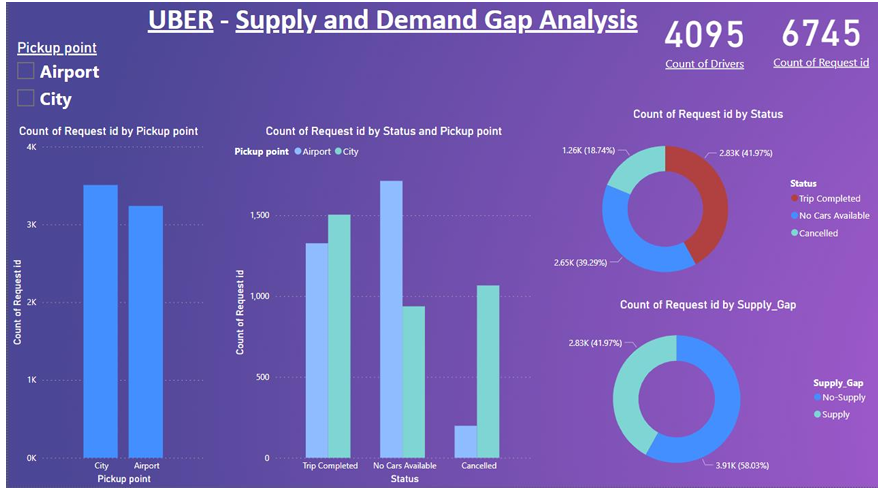

This screenshot's page, from the dashboard's own definition file:
{"tool":"powerbi","page":{"name":"Home","canvas":[1280,720],"ordinal":0},"visuals":[{"type":"textbox","box":[190.7,0,746.9,72.1],"z":0},{"type":"card","fields":{"Values":["Uber Request Data.Count of Driver id for 0"]},"box":[937.6,0,171.1,116.1],"z":1000},{"type":"card","fields":{"Values":["CountNonNull(Uber Request Data.Request id)"]},"box":[1108.7,0,171.1,112.5],"z":2000},{"type":"slicer","fields":{"Values":["Uber Request Data.Pickup point"]},"box":[0,56.2,294.6,127.1],"z":3000},{"type":"columnChart","fields":{"Category":["Uber Request Data.Pickup point"],"Y":["CountNonNull(Uber Request Data.Request id)"]},"box":[0,185.8,294.6,534.2],"z":4000},{"type":"clusteredColumnChart","fields":{"Category":["Uber Request Data.Status"],"Y":["CountNonNull(Uber Request Data.Request id)"],"Series":["Uber Request Data.Pickup point"]},"box":[327.6,185.8,448.6,534.2],"z":5000},{"type":"donutChart","fields":{"Category":["Uber Request Data.Status"],"Y":["CountNonNull(Uber Request Data.Request id)"]},"box":[776.2,161.4,503.6,279.9],"z":6000},{"type":"donutChart","fields":{"Y":["CountNonNull(Uber Request Data.Request id)"],"Category":["Uber Request Data.Supply_Gap"]},"box":[776.2,441.3,503.6,278.7],"z":7000}]}

Visuals, with their boxes in screenshot pixels (x1, y1, x2, y2), scaled from the page's 1280x720 canvas onto the 882x492 screenshot:
textbox: bbox(131, 0, 646, 49)
card - Uber Request Data.Count of Driver id for 0: bbox(646, 0, 764, 79)
card - CountNonNull(Uber Request Data.Request id): bbox(764, 0, 881, 77)
slicer - Uber Request Data.Pickup point: bbox(0, 38, 203, 125)
columnChart - Uber Request Data.Pickup point x CountNonNull(Uber Request Data.Request id): bbox(0, 127, 203, 491)
clusteredColumnChart - Uber Request Data.Status x CountNonNull(Uber Request Data.Request id): bbox(226, 127, 535, 491)
donutChart - Uber Request Data.Status x CountNonNull(Uber Request Data.Request id): bbox(535, 110, 881, 302)
donutChart - CountNonNull(Uber Request Data.Request id) x Uber Request Data.Supply_Gap: bbox(535, 302, 881, 491)
